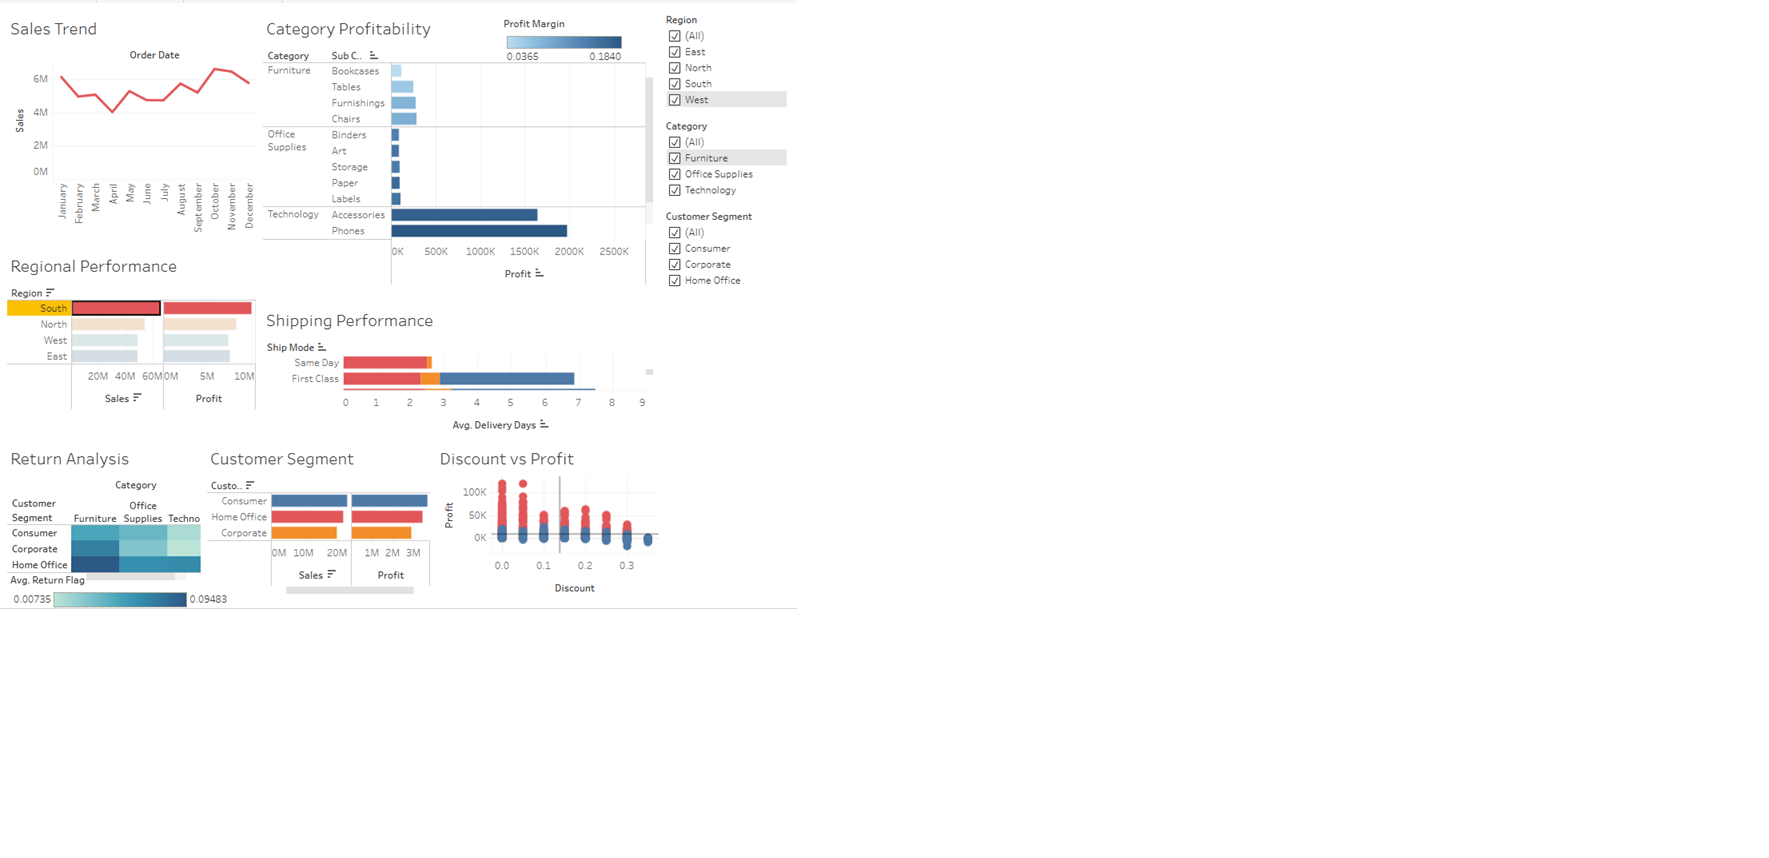

Layout of this report page (visuals, bound fields, positions):
{"tool":"tableau","page":{"name":"Dashboard 1","canvas":[1000,800],"ordinal":0},"visuals":[{"type":"title","box":[8,8,984,42]},{"type":"worksheet","title":"Sales Trend","mark":"Automatic","rows":["sales"],"cols":["order_date"],"box":[8,50,320,297.2]},{"type":"worksheet","title":"Category Profitability","mark":"Automatic","rows":["category","sub_category"],"cols":["profit"],"box":[328,50,504,350]},{"type":"filter","title":"Regional Performance","param":"[federated.1frxbha0yd1u0g1f1k9s11smq9t6].[none:region:nk]","box":[832,50,160,133]},{"type":"legend","title":"Category Profitability","param":"[federated.1frxbha0yd1u0g1f1k9s11smq9t6].[usr:Calculation_0001048332861494:qk]","box":[633,60,152,79]},{"type":"filter","title":"Category Profitability","param":"[federated.1frxbha0yd1u0g1f1k9s11smq9t6].[none:category:nk]","box":[832,183,160,113]},{"type":"filter","title":"Customer Segment","param":"[federated.1frxbha0yd1u0g1f1k9s11smq9t6].[none:customer_segment:nk]","box":[832,296,160,113]},{"type":"worksheet","title":"Regional Performance","mark":"Automatic","rows":["region"],"cols":["sales","profit"],"box":[8,347.2,320,240.8]},{"type":"worksheet","title":"Shipping Performance","mark":"Automatic","rows":["ship_mode"],"cols":["delivery_days"],"box":[328,415.1,504,172.9]},{"type":"worksheet","title":"Return Analysis","mark":"Automatic","rows":["customer_segment"],"cols":["category"],"box":[8,588,249.5,204]},{"type":"worksheet","title":"Customer Segment","mark":"Automatic","rows":["customer_segment"],"cols":["sales","profit"],"box":[257.5,588,287.2,204]},{"type":"worksheet","title":"Discount vs Profit","mark":"Circle","rows":["profit"],"cols":["discount"],"box":[544.8,588,287.2,204]}]}

Visuals, with their boxes on the page's 1000x800 design canvas (x1, y1, x2, y2). These are canvas units, not pixel positions in the 1769x858 screenshot, which may show the page scaled, cropped or inside an application window:
title: {"x1": 8, "y1": 8, "x2": 992, "y2": 50}
"Sales Trend" worksheet: {"x1": 8, "y1": 50, "x2": 328, "y2": 347}
"Category Profitability" worksheet: {"x1": 328, "y1": 50, "x2": 832, "y2": 400}
"Regional Performance" filter: {"x1": 832, "y1": 50, "x2": 992, "y2": 183}
"Category Profitability" legend: {"x1": 633, "y1": 60, "x2": 785, "y2": 139}
"Category Profitability" filter: {"x1": 832, "y1": 183, "x2": 992, "y2": 296}
"Customer Segment" filter: {"x1": 832, "y1": 296, "x2": 992, "y2": 409}
"Regional Performance" worksheet: {"x1": 8, "y1": 347, "x2": 328, "y2": 588}
"Shipping Performance" worksheet: {"x1": 328, "y1": 415, "x2": 832, "y2": 588}
"Return Analysis" worksheet: {"x1": 8, "y1": 588, "x2": 258, "y2": 792}
"Customer Segment" worksheet: {"x1": 258, "y1": 588, "x2": 545, "y2": 792}
"Discount vs Profit" worksheet (Circle marks): {"x1": 545, "y1": 588, "x2": 832, "y2": 792}
